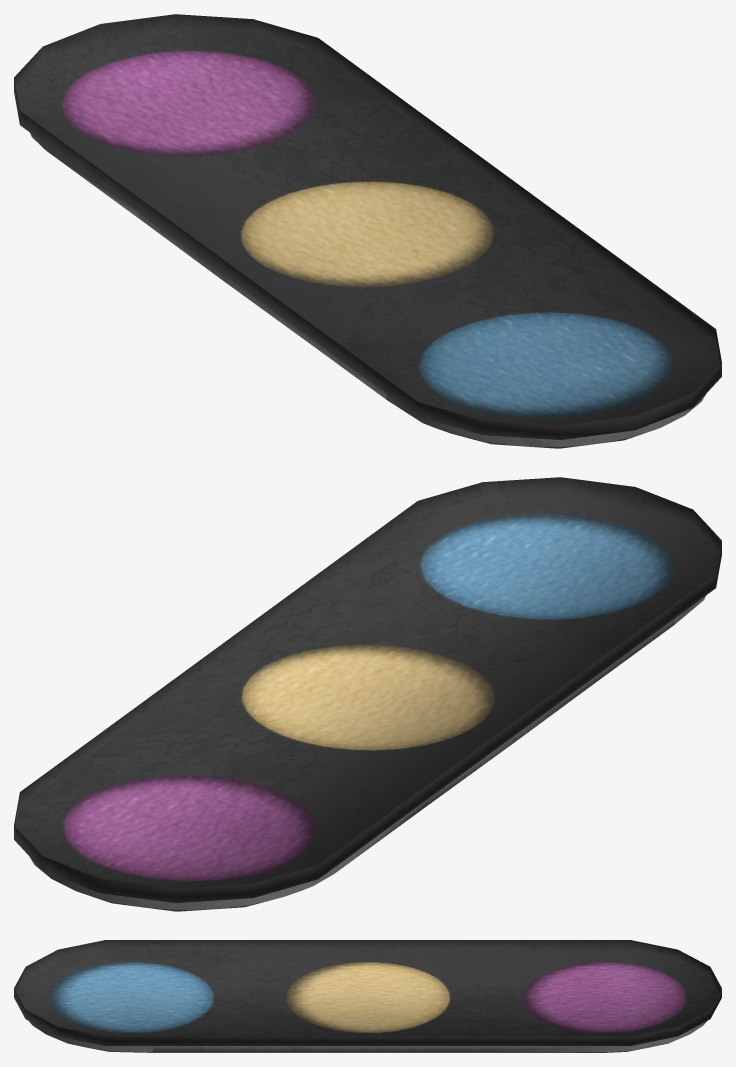
File: nt_2020_wall_design01_LOD1.obj
The picture shows the model from 3 angles, top to bottom: view 1: azimuth 30°, elevation 25°; view 2: azimuth 150°, elevation 25°; view 3: azimuth 270°, elevation 25°; orthographic projection. The views are drawn at different scales.
Parts seen in each view (by area): view 1: mtl_nt_2020_wall_design01; view 2: mtl_nt_2020_wall_design01; view 3: mtl_nt_2020_wall_design01.
Part boxes in pixels (x1,y1,x2,y2): mtl_nt_2020_wall_design01: (14, 14, 721, 448); mtl_nt_2020_wall_design01: (14, 477, 721, 911); mtl_nt_2020_wall_design01: (14, 940, 721, 1052).
Size of the model in its own units: 78 by 8.22 by 242.
